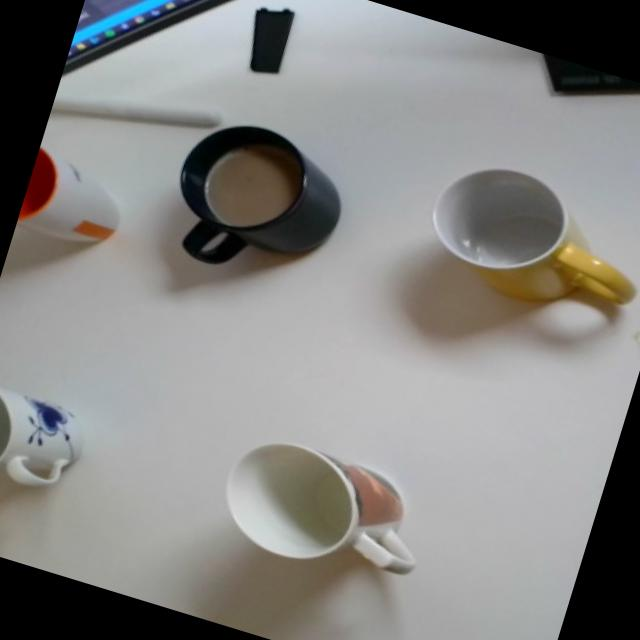Cocio Cup: (411, 144, 640, 341)
Cup: (154, 104, 360, 298)
Hand painted cup: (206, 424, 443, 598), (0, 373, 97, 506)
White Cup: (14, 142, 136, 256)
